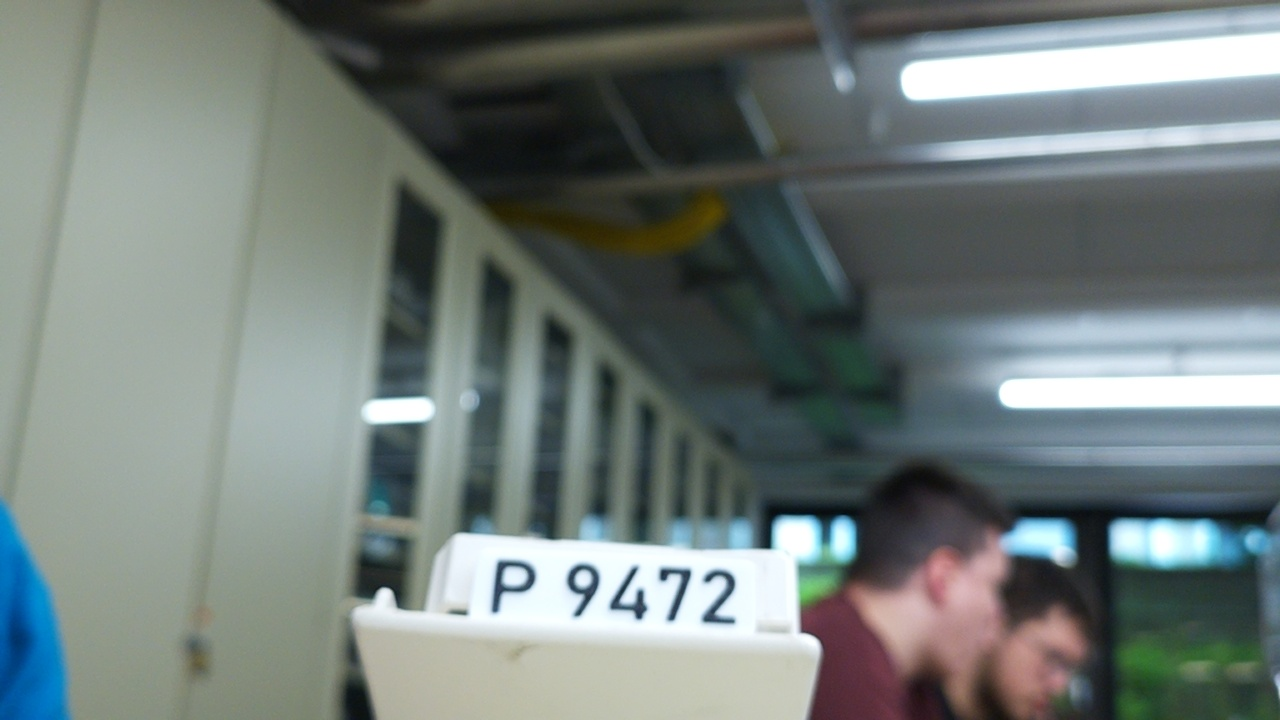license_plate: (468, 539, 759, 638)
